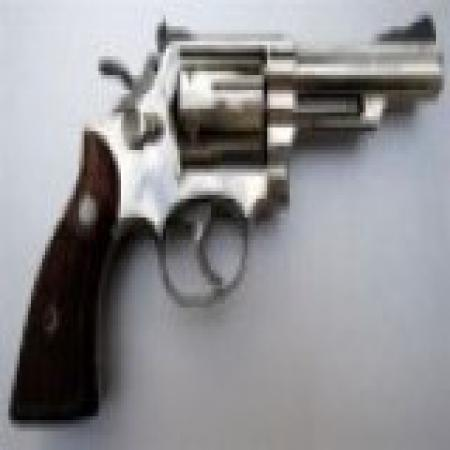Pistol: (14, 8, 442, 420)
